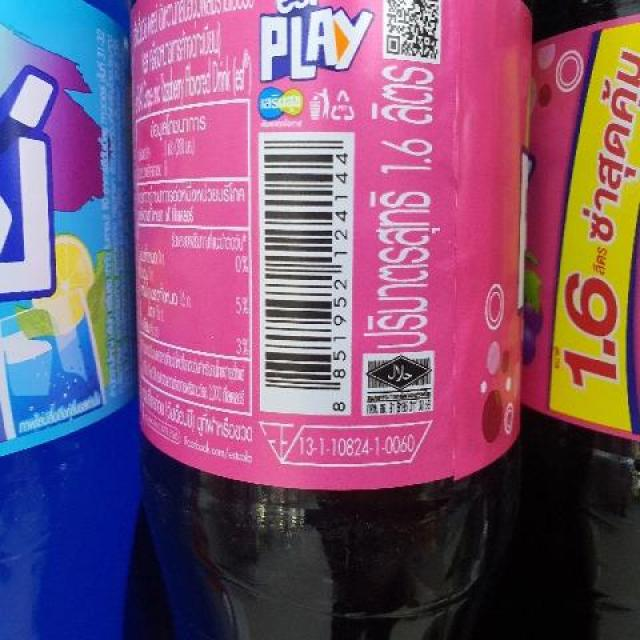Barcode: (259, 131, 353, 413)
